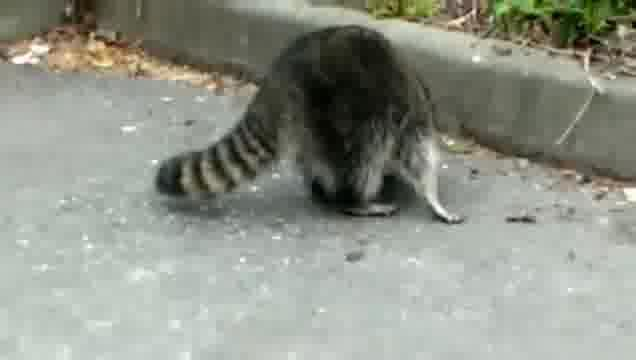raccoon: (153, 22, 466, 225)
